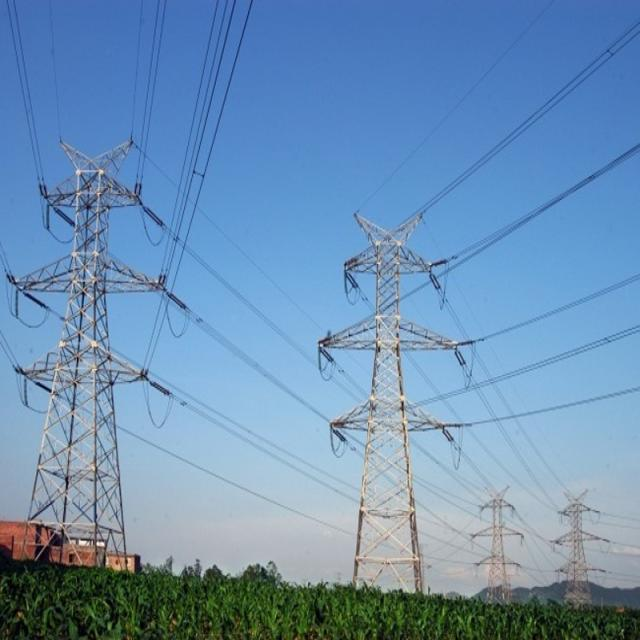non-critical vegetation: (14, 143, 168, 582), (332, 222, 438, 590), (471, 484, 524, 608), (554, 481, 606, 605)
